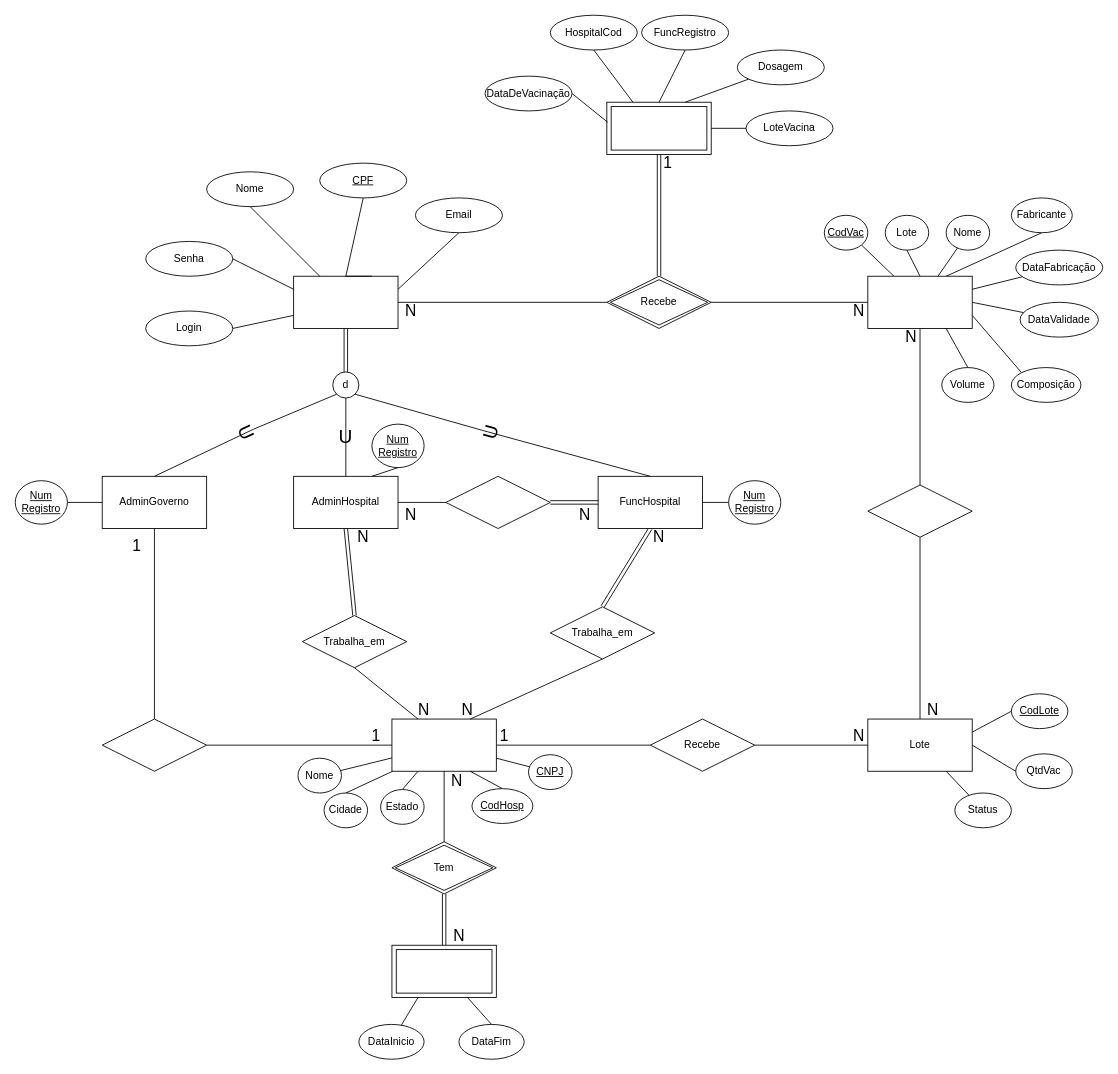
Some shapes in this 1118 by 1074 pixel diagram are drawn without their labels. The centre of each missing label's shape, as x and y in pixels:
"CartãoDeVacinação" belongs at point (658, 127).
"Cidadão" belongs at point (345, 301).
"Hospital" belongs at point (443, 744).
"PeríodoVacinação" belongs at point (443, 970).
"Possui" belongs at point (919, 510).
"Registra" belongs at point (154, 744).
"Supervisiona" belongs at point (497, 502).
"Vacina" belongs at point (919, 301).
